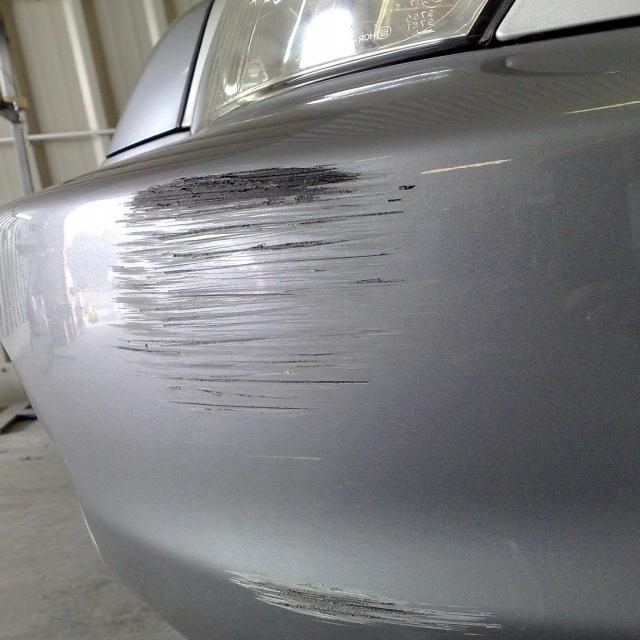scratch: (54, 165, 413, 428), (191, 557, 558, 640)
